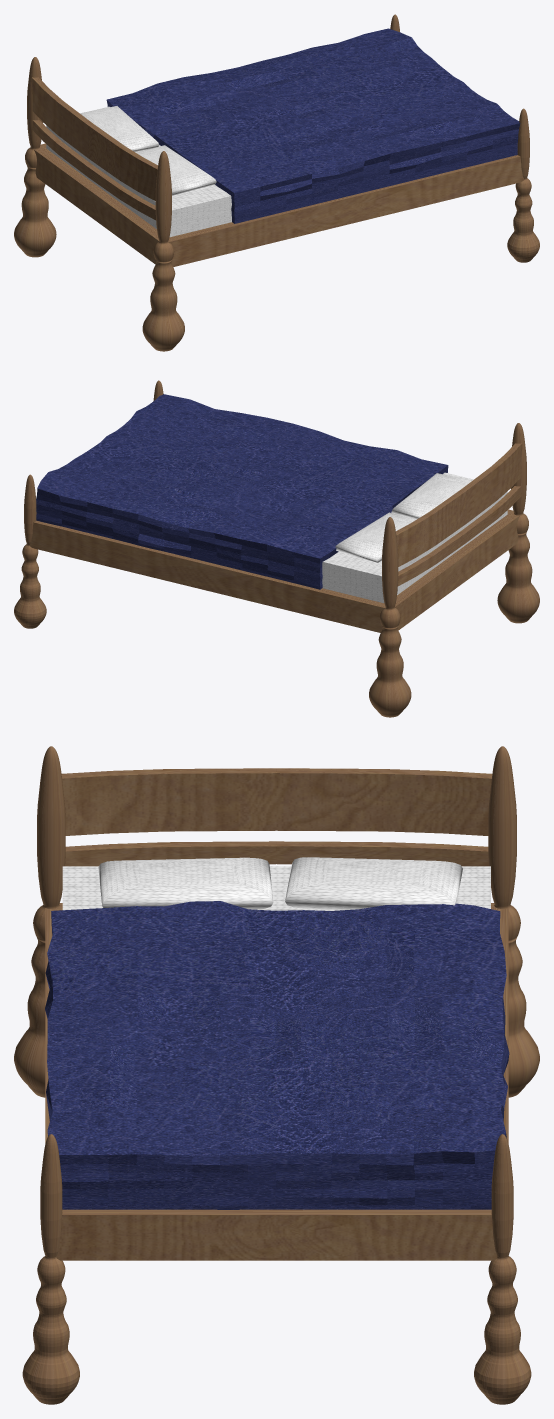
The model's file is RedBed.glb.
3 views of the same model, one above another, from view 1: azimuth 30°, elevation 25°; view 2: azimuth 150°, elevation 25°; view 3: azimuth 270°, elevation 25° (orthographic). The views are drawn at different scales.
Parts seen in each view (by area): view 1: Cube.009, BedFrame.001, Cube.010, Cube.008, Cube.011, Cube.012, Cube.013; view 2: Cube.009, BedFrame.001, Cube.010, Cube.008, Cube.011, Cube.013, Cube.012; view 3: Cube.009, BedFrame.001, Cube.010, Cube.012, Cube.013, Cube.011, Cube.008.
Boxes of the visible parts, x1,y1,x2,y2 form: Cube.009: (106,28,520,223); BedFrame.001: (14,14,539,351); Cube.010: (31,77,157,200); Cube.008: (46,106,231,237); Cube.011: (32,120,155,220); Cube.012: (80,106,159,151); Cube.013: (136,145,216,195); Cube.009: (36,394,448,589); BedFrame.001: (14,380,539,717); Cube.010: (396,443,522,566); Cube.008: (322,472,507,603); Cube.011: (398,486,521,586); Cube.013: (391,473,471,519); Cube.012: (335,512,415,562); Cube.009: (45,901,509,1209); BedFrame.001: (14,746,539,1404); Cube.010: (61,768,492,835); Cube.012: (285,857,462,909); Cube.013: (98,857,273,909); Cube.011: (65,841,488,866); Cube.008: (62,866,490,910).
Bounding box in the file's own units: 8.77 × 4.19 × 5.8.
Materials: 4 (4 with a texture image).
